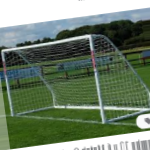goals: (1, 33, 150, 123)
